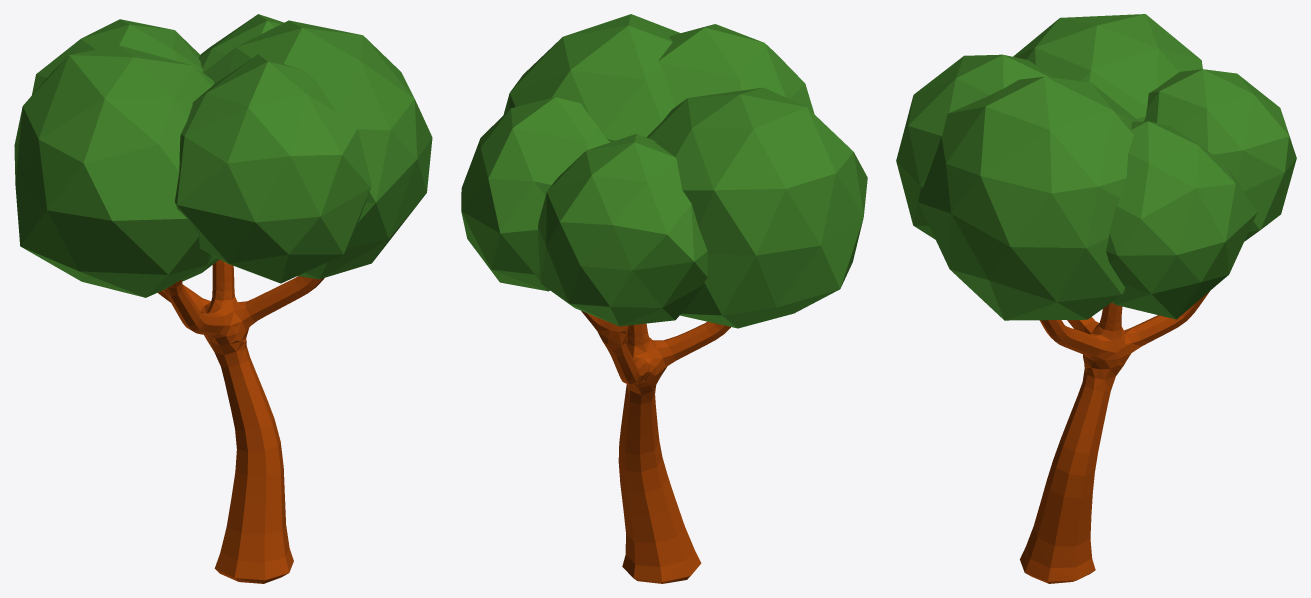
Rendered from lowPolyTree.dae.
3 views of the same model, side by side, from view 1: azimuth 30°, elevation 25°; view 2: azimuth 150°, elevation 25°; view 3: azimuth 270°, elevation 25° (orthographic). The views are drawn at different scales.
Visible parts, largest first — view 1: Plane; view 2: Plane; view 3: Plane.
Part boxes in pixels (x1,y1,x2,y2): Plane: (14, 14, 432, 583); Plane: (461, 14, 867, 583); Plane: (896, 14, 1296, 583).
Size of the model in its own units: 7.4 by 7.46 by 10.57.
1 material, 1 textured.
